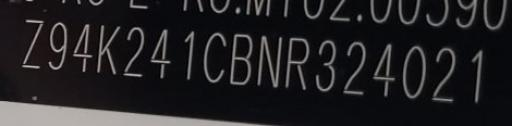letter: (428, 44, 464, 104), (254, 32, 288, 90), (400, 40, 432, 101), (282, 32, 314, 92), (370, 39, 402, 99), (94, 19, 128, 74), (340, 38, 372, 96), (199, 28, 231, 85), (464, 46, 494, 106), (144, 25, 176, 79), (228, 30, 258, 87), (19, 15, 49, 70), (120, 24, 150, 79), (312, 34, 340, 90), (70, 19, 96, 73), (45, 19, 71, 72), (180, 26, 202, 82)
